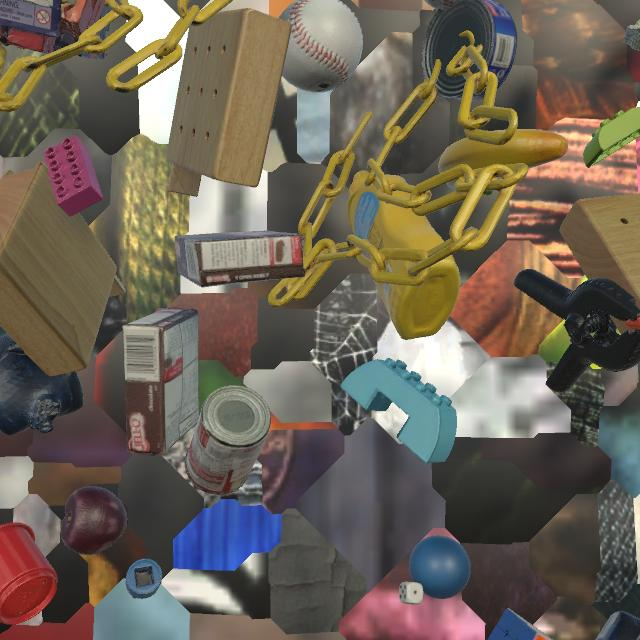ycb_005_tomato_soup_can: (185, 385, 271, 495)
ycb_006_mustard_bottle: (347, 170, 460, 340)
ycb_007_tuna_fish_can: (421, 0, 517, 101)
ycb_008_pudding_box: (122, 307, 200, 456), (174, 231, 306, 288)
ycb_011_banana: (438, 129, 568, 195)
ycb_018_plum: (61, 486, 127, 555)
